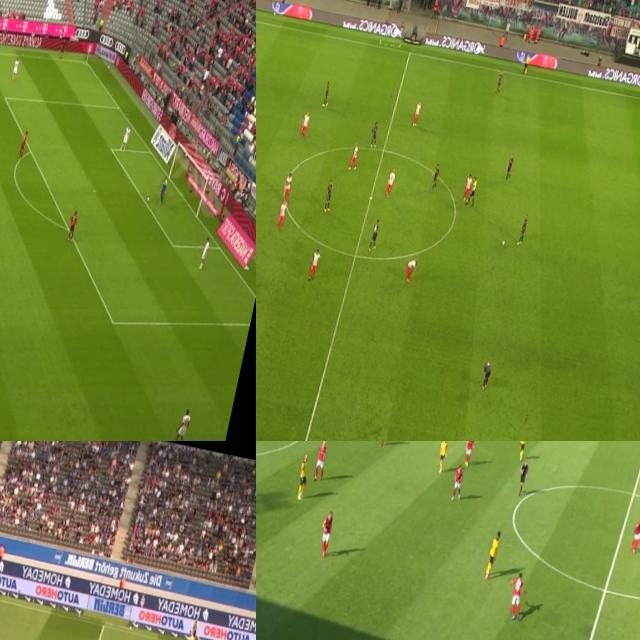ball: (144, 188, 152, 204), (499, 235, 506, 250)
player: (506, 569, 530, 622), (481, 528, 504, 581), (317, 507, 335, 558), (294, 448, 312, 499), (302, 243, 322, 284), (171, 404, 193, 441), (310, 441, 329, 477), (195, 234, 211, 276), (450, 462, 467, 501), (64, 207, 80, 248), (476, 357, 496, 388), (14, 128, 32, 162), (514, 213, 530, 250), (434, 441, 451, 475), (275, 196, 290, 231), (318, 76, 334, 108), (402, 250, 418, 282), (279, 172, 294, 206), (368, 215, 383, 248), (409, 97, 423, 132), (461, 170, 474, 206), (459, 441, 477, 467), (346, 143, 361, 174), (321, 181, 335, 213), (427, 164, 442, 193), (157, 172, 170, 205), (368, 118, 382, 148), (630, 512, 640, 551), (493, 70, 506, 98), (10, 50, 22, 80), (513, 441, 530, 462), (118, 124, 130, 150), (384, 170, 396, 195), (504, 154, 516, 178), (298, 112, 309, 138)
